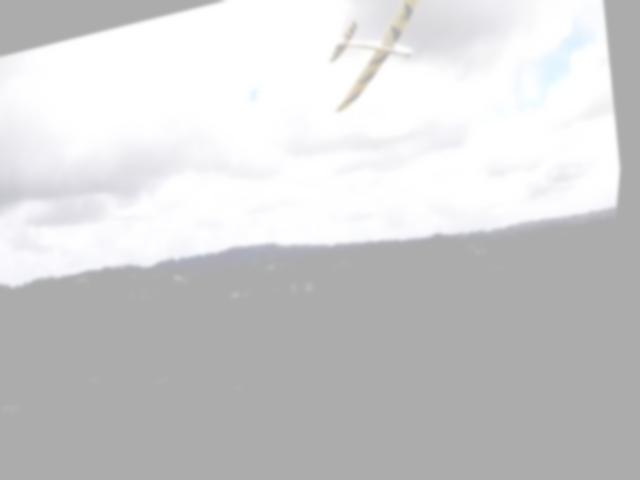iha: (311, 0, 452, 119)
